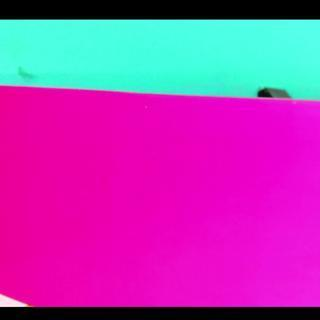xparking: (11, 106, 311, 300)
